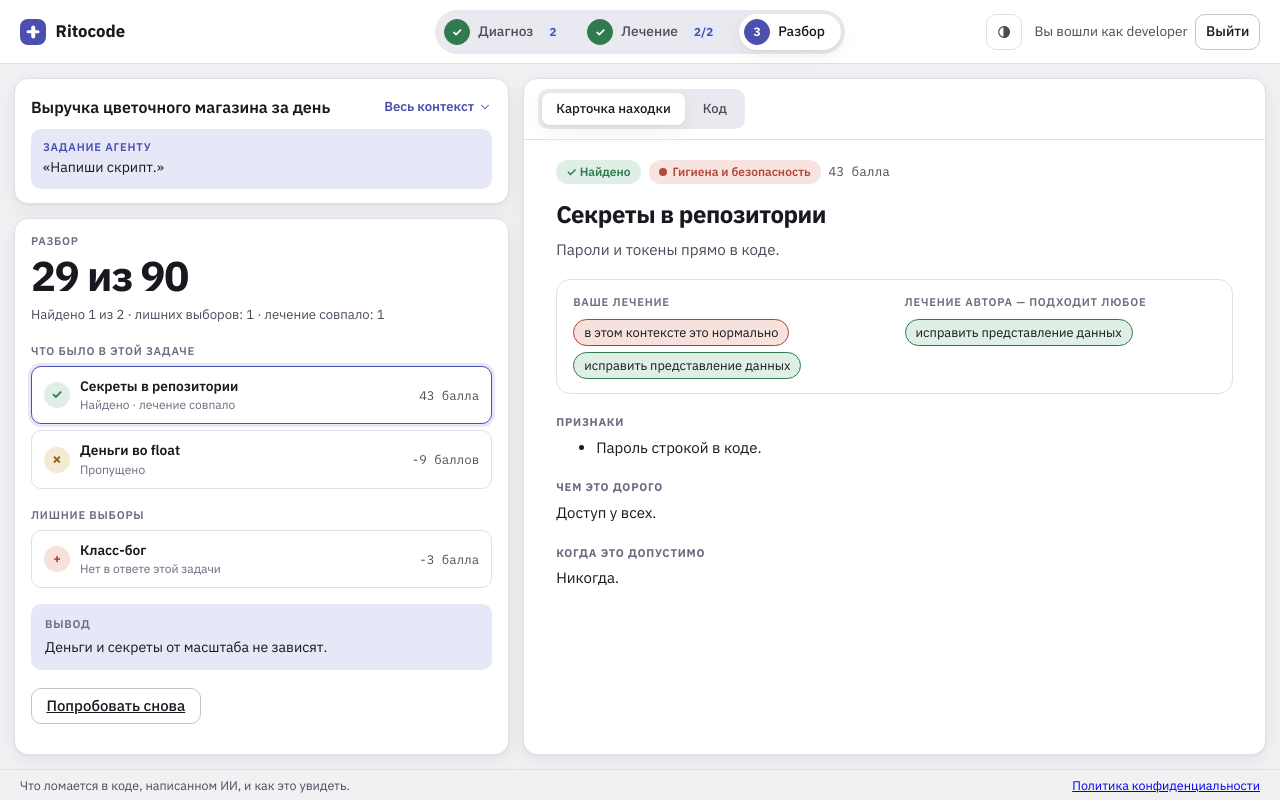
it: the review › shows an extra pick as not in this task’s answer, with its card and no author’s leaves
This screenshot has width=1280, height=800.
Expected: the heading "Разбор" is shown, [31, 234, 79, 248]
Click the button "+ Класс-бог Нет в ответе этой задачи -3 балла".
click(113, 550)  # box [31, 530, 492, 588]
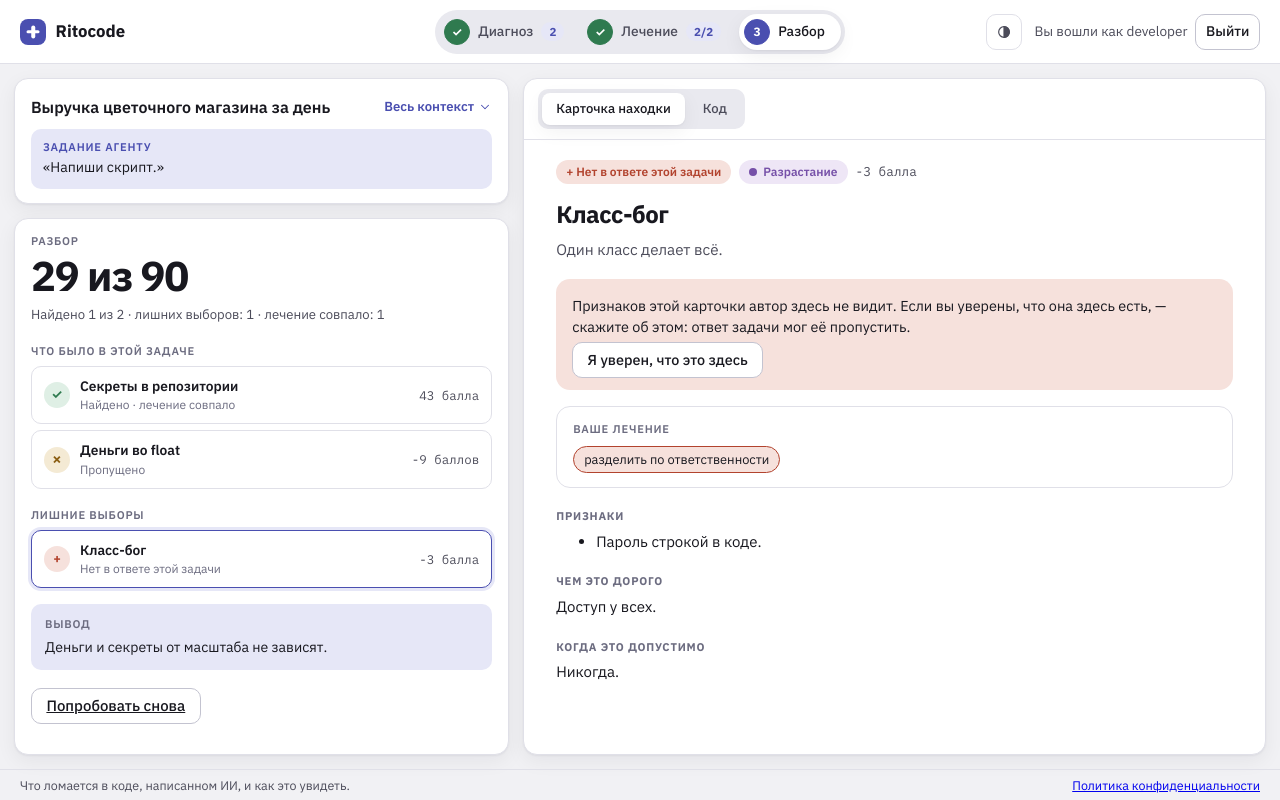
Now the text "Нет в ответе этой задачи" is shown, box [576, 164, 721, 179]
Now the text "-3 балла" next to "Разрастание" is shown, box [856, 163, 917, 180]
Now the text "Лечение автора — подходит любое" is gone
